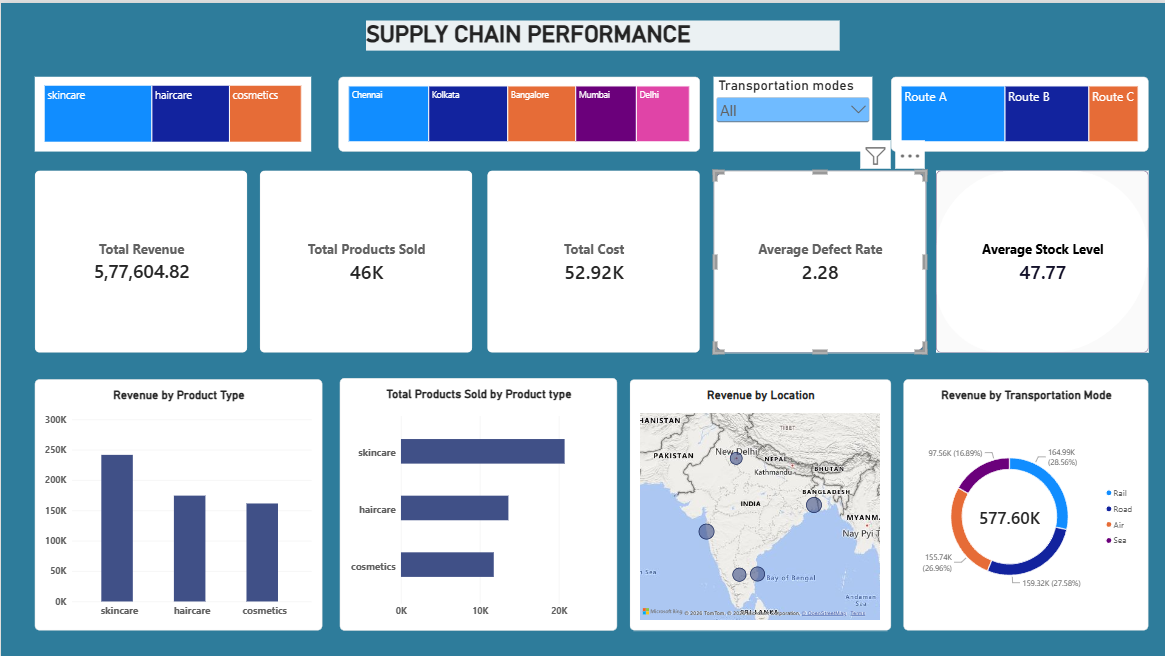

The dashboard page shown, as its layout file describes it:
{"tool":"powerbi","page":{"name":"Executive Overview","canvas":[1920,1080],"ordinal":0},"visuals":[{"type":"shape","title":"SUPPLY CHAIN PERFORMANCE DASHBOARD","box":[601,28.8,780.1,49.4],"z":0},{"type":"cardVisual","fields":{"Data":["supply_chain_data.Total Revenue"]},"box":[55.6,275.8,350,300],"z":1000},{"type":"cardVisual","fields":{"Data":["supply_chain_data.Total Products Sold"]},"box":[426.1,275.8,350,300],"z":2000},{"type":"cardVisual","fields":{"Data":["supply_chain_data.Total Cost"]},"box":[800.7,275.8,350,300],"z":3000},{"type":"cardVisual","fields":{"Data":["supply_chain_data.Average Defect Rate"]},"box":[1173.2,275.8,350,300.5],"z":4000},{"type":"cardVisual","fields":{"Data":["supply_chain_data.Average Stock Level"]},"box":[1539.6,275.8,350,300],"z":5000},{"type":"clusteredColumnChart","title":"Revenue by Product Type","fields":{"Category":["supply_chain_data.Product type"],"Y":["supply_chain_data.Total Revenue"]},"box":[55.6,619.6,473.4,413.7],"z":6000},{"type":"clusteredBarChart","fields":{"Category":["supply_chain_data.Product type"],"Y":["supply_chain_data.Total Products Sold"]},"box":[557.8,617.5,456.9,415.8],"z":7000},{"type":"map","title":"Revenue by Location","fields":{"Category":["supply_chain_data.Location"],"Size":["supply_chain_data.Total Revenue"]},"box":[1035.3,619.6,430.2,413.7],"z":8000},{"type":"donutChart","title":"Revenue by Transportation Mode","fields":{"Category":["supply_chain_data.Transportation modes"],"Y":["supply_chain_data.Total Revenue"]},"box":[1486.1,619.6,403.4,413.7],"z":9000},{"type":"treemap","fields":{"Group":["supply_chain_data.Product type"],"Values":["supply_chain_data.Total Revenue"]},"box":[55.6,121.4,454.9,123.5],"z":9001},{"type":"treemap","fields":{"Group":["supply_chain_data.Location"],"Values":["supply_chain_data.Total Cost"]},"box":[555.7,121.4,594.9,123.5],"z":9002},{"type":"slicer","fields":{"Values":["supply_chain_data.Transportation modes"]},"box":[1173.2,121.4,261.4,123.5],"z":9003},{"type":"treemap","fields":{"Group":["supply_chain_data.Routes"],"Values":["supply_chain_data.Total Revenue"]},"box":[1465.5,121.4,424,123.5],"z":9004}]}

Visuals, with their boxes in screenshot pixels (x1, y1, x2, y2), scaled from the page's 1920x1080 canvas onto the 1165x656 screenshot:
"SUPPLY CHAIN PERFORMANCE DASHBOARD" shape: <region>365, 17, 838, 47</region>
cardVisual - supply_chain_data.Total Revenue: <region>34, 168, 246, 350</region>
cardVisual - supply_chain_data.Total Products Sold: <region>259, 168, 471, 350</region>
cardVisual - supply_chain_data.Total Cost: <region>486, 168, 698, 350</region>
cardVisual - supply_chain_data.Average Defect Rate: <region>712, 168, 924, 350</region>
cardVisual - supply_chain_data.Average Stock Level: <region>934, 168, 1147, 350</region>
"Revenue by Product Type" clusteredColumnChart: <region>34, 376, 321, 628</region>
clusteredBarChart - supply_chain_data.Product type x supply_chain_data.Total Products Sold: <region>338, 375, 616, 628</region>
"Revenue by Location" map: <region>628, 376, 889, 628</region>
"Revenue by Transportation Mode" donutChart: <region>902, 376, 1146, 628</region>
treemap - supply_chain_data.Product type x supply_chain_data.Total Revenue: <region>34, 74, 310, 149</region>
treemap - supply_chain_data.Location x supply_chain_data.Total Cost: <region>337, 74, 698, 149</region>
slicer - supply_chain_data.Transportation modes: <region>712, 74, 870, 149</region>
treemap - supply_chain_data.Routes x supply_chain_data.Total Revenue: <region>889, 74, 1146, 149</region>
